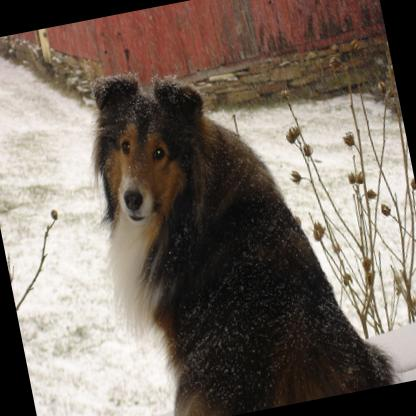Shetland_sheepdog: (64, 28, 398, 416)
